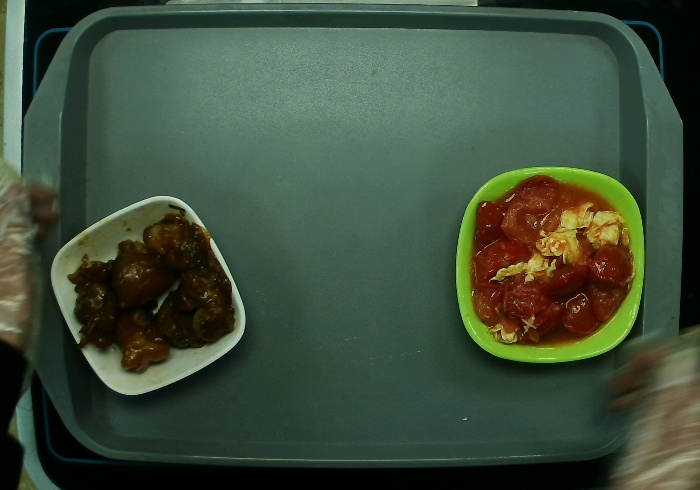SHKJ-Bai_Se_Xiao_Fang_Die: (49, 196, 246, 396)
SHKJ-Lv_Se_Cai_Die: (454, 166, 646, 365)
